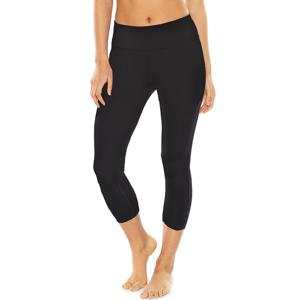C_W_pants: (88, 12, 205, 234)
